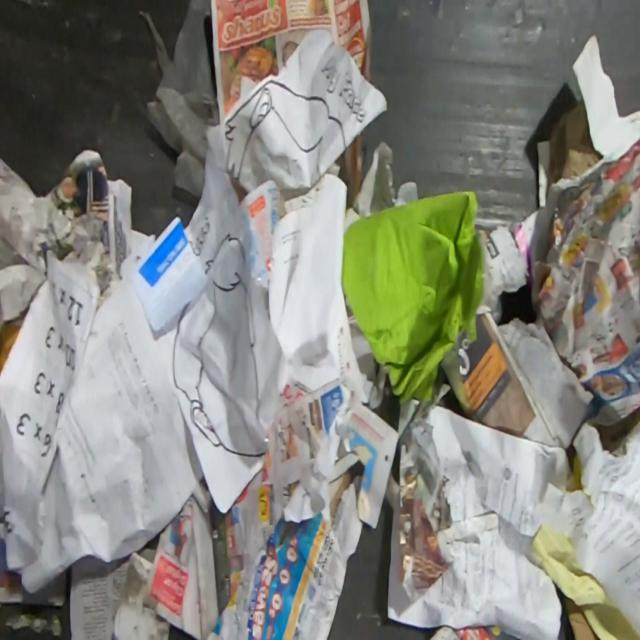cardboard: (341, 190, 486, 402), (564, 595, 598, 639), (344, 200, 360, 236)
soft_plastic: (137, 0, 221, 201)
